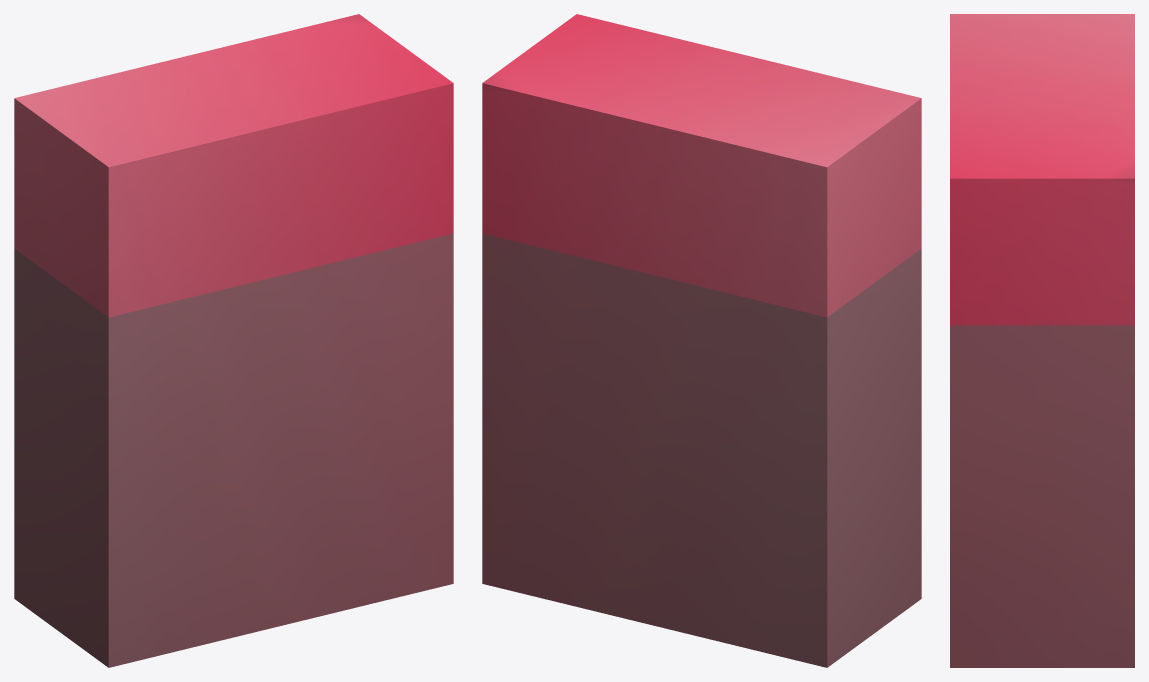
The model's file is Ürün5.fbx.
3 renders of one model, left to right at view 1: azimuth 30°, elevation 25°; view 2: azimuth 150°, elevation 25°; view 3: azimuth 270°, elevation 25°, orthographic. The views are drawn at different scales.
Parts seen in each view (by area): view 1: pCube71; view 2: pCube71; view 3: pCube71.
Part boxes in pixels (bbox=[...]): pCube71: bbox=[14, 14, 453, 667]; pCube71: bbox=[482, 14, 921, 667]; pCube71: bbox=[950, 14, 1134, 667].
Size of the model in its own units: 23.51 by 32.6 by 11.16.
